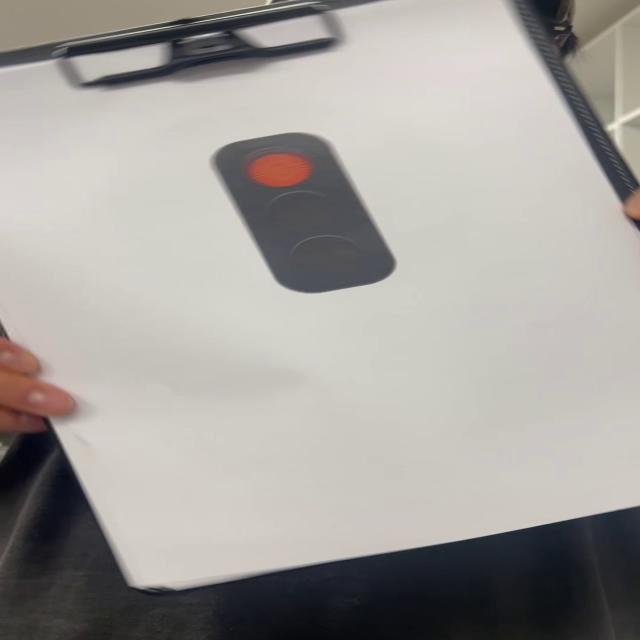red: (213, 133, 402, 293)
